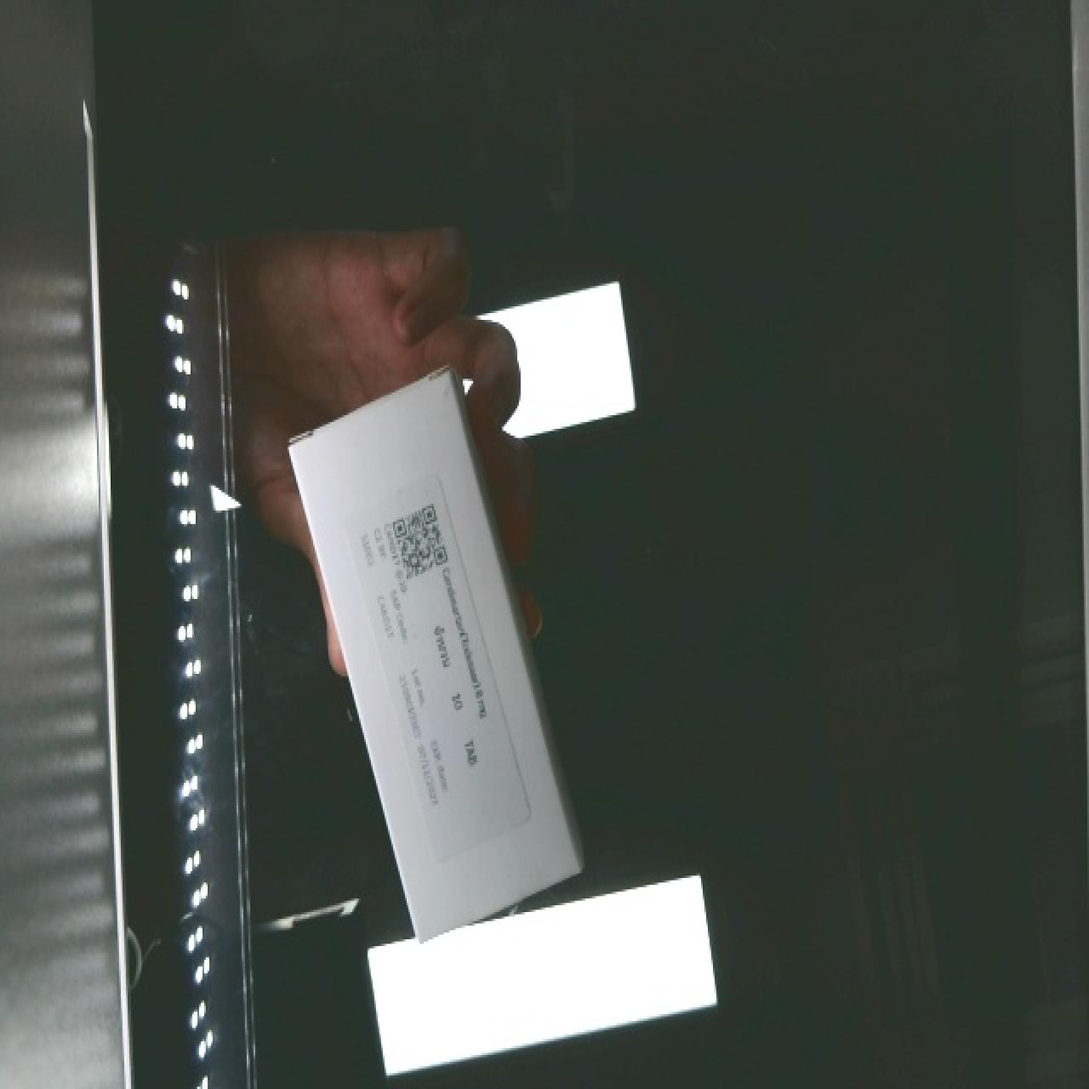qr_code: (370, 472, 471, 604)
